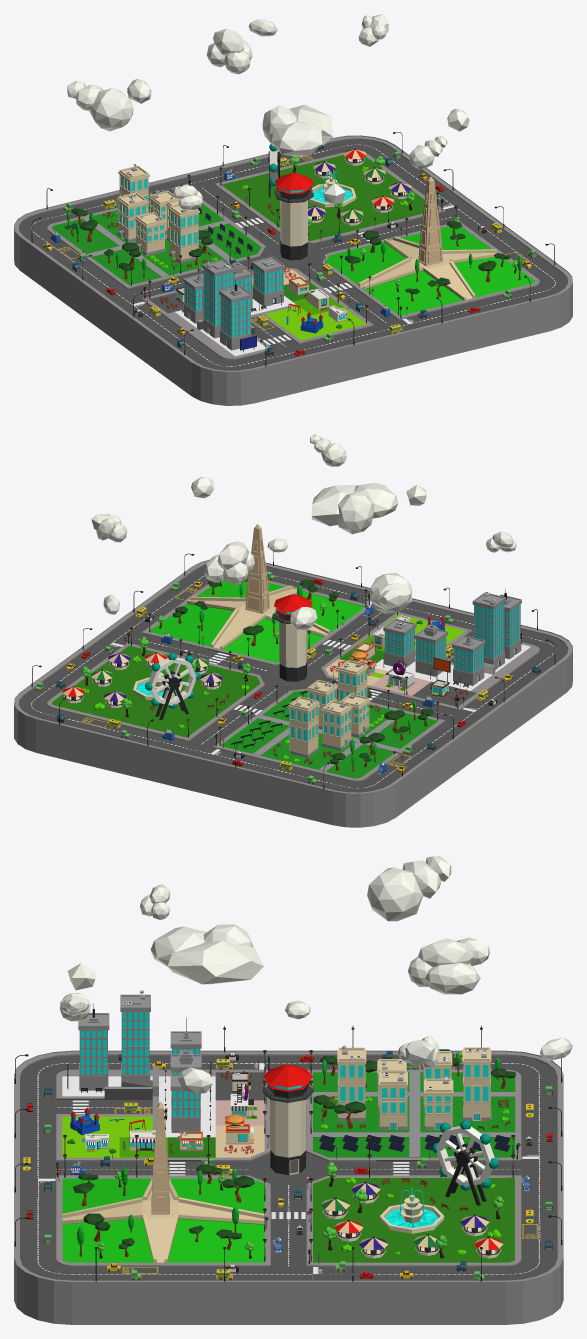
Rendered from square.glb.
The picture shows the model from 3 angles, top to bottom: view 1: azimuth 30°, elevation 25°; view 2: azimuth 150°, elevation 25°; view 3: azimuth 270°, elevation 25°; orthographic projection. The views are drawn at different scales.
Parts seen in each view (by area): view 1: CURVA DESTRA.004, CURVA DESTRA.011, Plane.057, CURVA DESTRA.008, Cylinder.002, Plane.056, Cube.077, GIARDINO, Icosphere.109, Icosphere.120, Plane.020, casa.005 (+56 smaller); view 2: CURVA DESTRA.004, CURVA DESTRA.011, Plane.057, CURVA DESTRA.008, Cylinder.002, Plane.056, Cylinder.009, Plane.020, casa.004, Cube.080, Icosphere.111, Cube.082 (+60 smaller); view 3: CURVA DESTRA.004, CURVA DESTRA.011, Plane.057, CURVA DESTRA.008, Cylinder.002, Plane.056, Icosphere.110, Plane.020, Cylinder.009, Icosphere.120, Plane.068, GIARDINO (+68 smaller).
Part boxes in pixels (x1,y1,x2,y2): CURVA DESTRA.004: [14, 135, 572, 405]; CURVA DESTRA.011: [326, 176, 534, 315]; Plane.057: [52, 202, 261, 285]; CURVA DESTRA.008: [221, 155, 412, 224]; Cylinder.002: [274, 172, 313, 260]; Plane.056: [276, 191, 424, 240]; Cube.077: [219, 280, 252, 350]; GIARDINO: [265, 306, 366, 340]; Icosphere.109: [271, 122, 322, 156]; Icosphere.120: [89, 88, 133, 131]; Plane.020: [168, 293, 351, 353]; casa.005: [168, 204, 199, 262]; CURVA DESTRA.004: [14, 559, 572, 827]; CURVA DESTRA.011: [150, 524, 364, 662]; Plane.057: [220, 690, 437, 778]; CURVA DESTRA.008: [52, 664, 241, 737]; Cylinder.002: [274, 594, 312, 681]; Plane.056: [104, 645, 260, 697]; Cylinder.009: [148, 657, 196, 720]; Plane.020: [375, 609, 501, 692]; casa.004: [288, 696, 319, 757]; Cube.080: [452, 626, 485, 685]; Icosphere.111: [337, 492, 373, 534]; Cube.082: [383, 618, 416, 668]; CURVA DESTRA.004: [14, 1050, 563, 1324]; CURVA DESTRA.011: [62, 1102, 264, 1262]; Plane.057: [312, 1072, 515, 1157]; CURVA DESTRA.008: [376, 1177, 514, 1262]; Cylinder.002: [263, 1064, 313, 1174]; Plane.056: [313, 1178, 376, 1262]; Icosphere.110: [167, 941, 263, 984]; Plane.020: [14, 1066, 215, 1138]; Cylinder.009: [436, 1126, 494, 1205]; Icosphere.120: [367, 867, 422, 921]; Plane.068: [62, 1072, 152, 1116]; GIARDINO: [62, 1116, 152, 1157].
Size of the model in its own units: 113 by 61.1 by 116.
5 materials, 3 textured.
